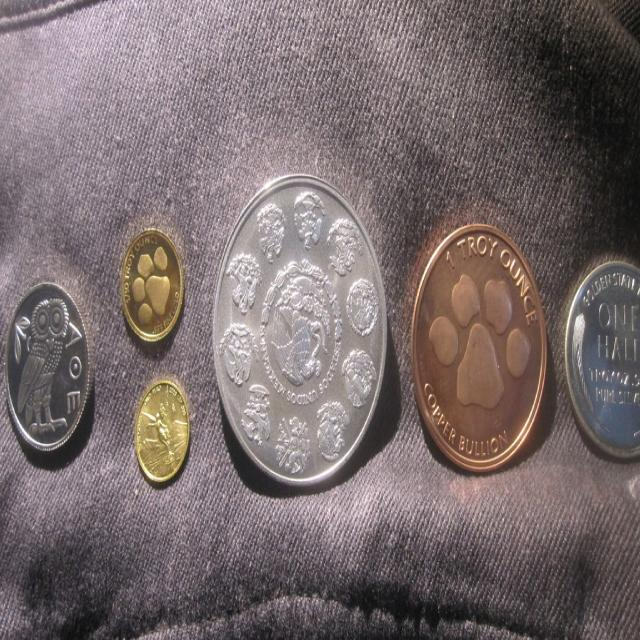Coin: (213, 174, 385, 488), (410, 221, 548, 474), (3, 278, 92, 455), (566, 257, 640, 466), (121, 226, 184, 347), (131, 379, 191, 488)
